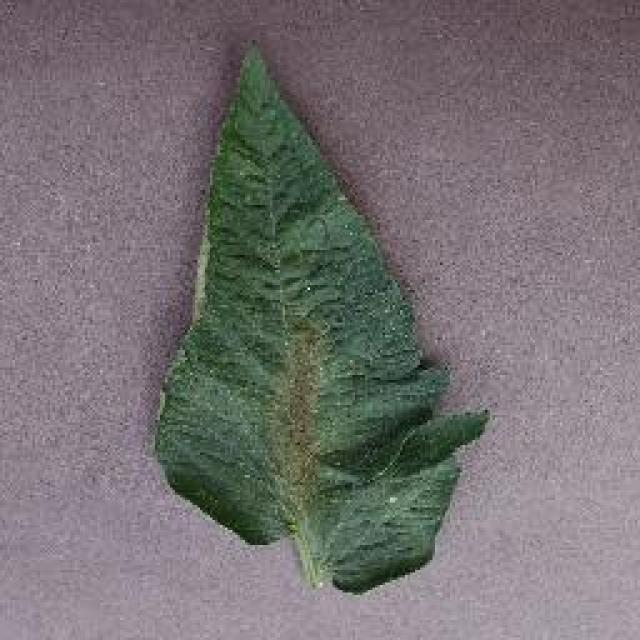Tomato___Spider_mites Two-spotted_spider_mite: (155, 50, 488, 590)
